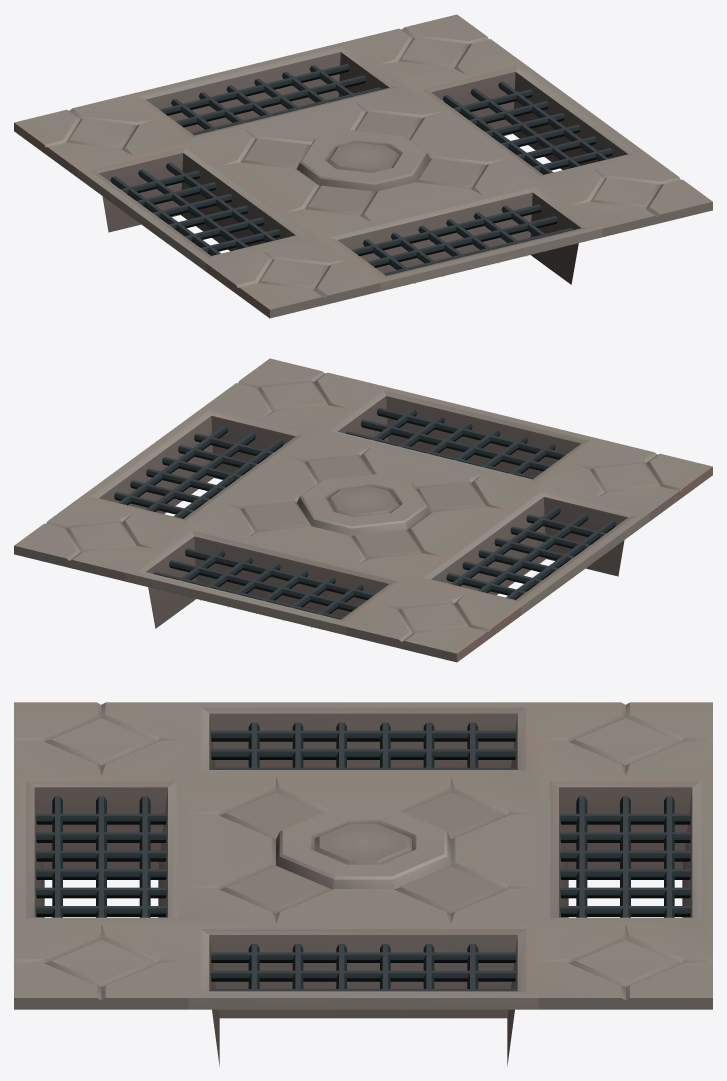
File: floor_tile_extralarge_grates_open.glb
3 views of the same model, one above another, from view 1: azimuth 30°, elevation 25°; view 2: azimuth 150°, elevation 25°; view 3: azimuth 270°, elevation 25° (orthographic). The views are drawn at different scales.
Visible parts, largest first — view 1: floor_tile_extralarge_grates_open; view 2: floor_tile_extralarge_grates_open; view 3: floor_tile_extralarge_grates_open.
Boxes of the visible parts, x1,y1,x2,y2 form: floor_tile_extralarge_grates_open: (14, 14, 712, 318); floor_tile_extralarge_grates_open: (14, 358, 712, 662); floor_tile_extralarge_grates_open: (14, 702, 712, 1065).
Bounding box in the file's own units: 8 × 1.13 × 8.
1 material, 1 textured.
